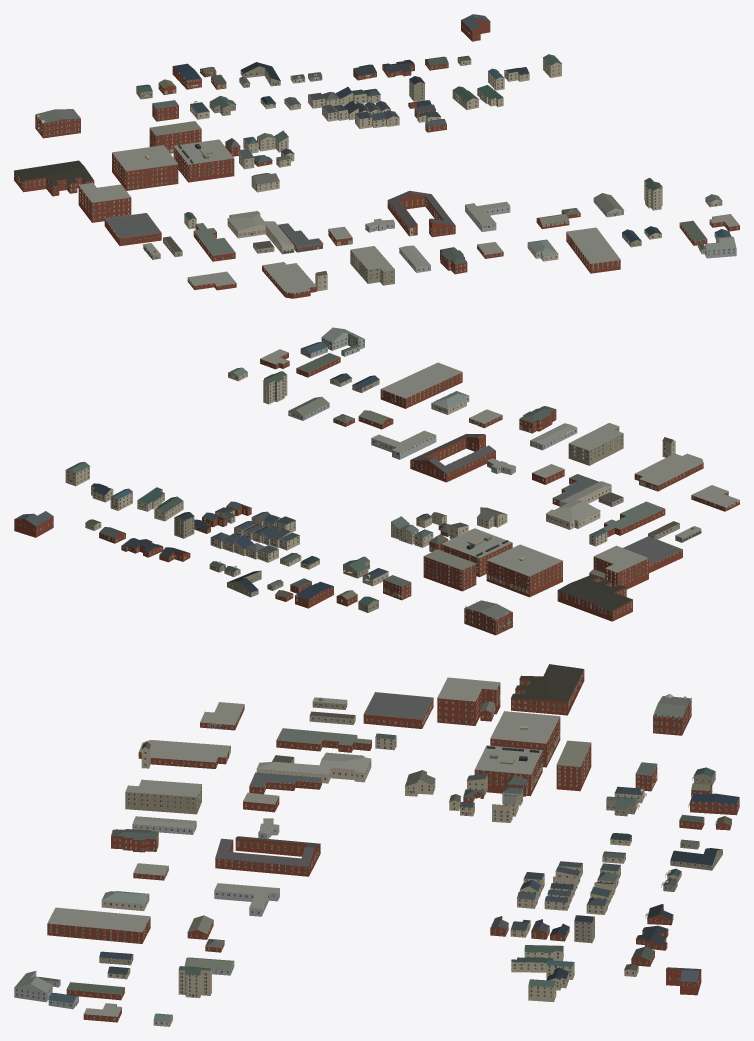
3 views of the same model, one above another, from view 1: azimuth 30°, elevation 25°; view 2: azimuth 150°, elevation 25°; view 3: azimuth 270°, elevation 25° (orthographic). The views are drawn at different scales.
Parts seen in each view (by area): view 1: 0_0_269018238_0, 0_0_269018541_1, 0_0_599496332_28, 0_0_471381640_11, 0_0_451755566_10; view 2: 0_0_269018238_0, 0_0_269018541_1, 0_0_599496332_28, 0_0_471381640_11, 0_0_451755566_10; view 3: 0_0_269018238_0, 0_0_269018541_1, 0_0_599496332_28, 0_0_471381640_11, 0_0_451755566_10.
Boxes of the visible parts, x1,y1,x2,y2 form: 0_0_269018238_0: (14,14,739,298); 0_0_269018541_1: (37,38,699,291); 0_0_599496332_28: (136,66,641,285); 0_0_471381640_11: (365,198,736,272); 0_0_451755566_10: (227,198,722,261); 0_0_269018238_0: (14,327,739,635); 0_0_269018541_1: (65,351,692,629); 0_0_599496332_28: (174,379,700,612); 0_0_471381640_11: (288,332,577,474); 0_0_451755566_10: (228,372,611,622); 0_0_269018238_0: (14,664,739,1025); 0_0_269018541_1: (76,680,681,1016); 0_0_599496332_28: (99,701,722,965); 0_0_471381640_11: (14,821,279,1009); 0_0_451755566_10: (101,756,371,1026).
Size of the model in its own units: 533 by 42.9 by 513.
